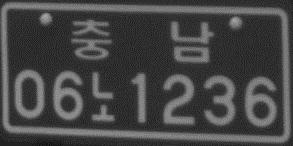0: (14, 68, 45, 119)
1: (125, 73, 154, 123)
2: (162, 73, 196, 125)
3: (203, 74, 236, 126)
6: (244, 75, 278, 128), (52, 70, 83, 121)
노: (90, 70, 115, 121)
충남_D: (70, 18, 213, 64)
